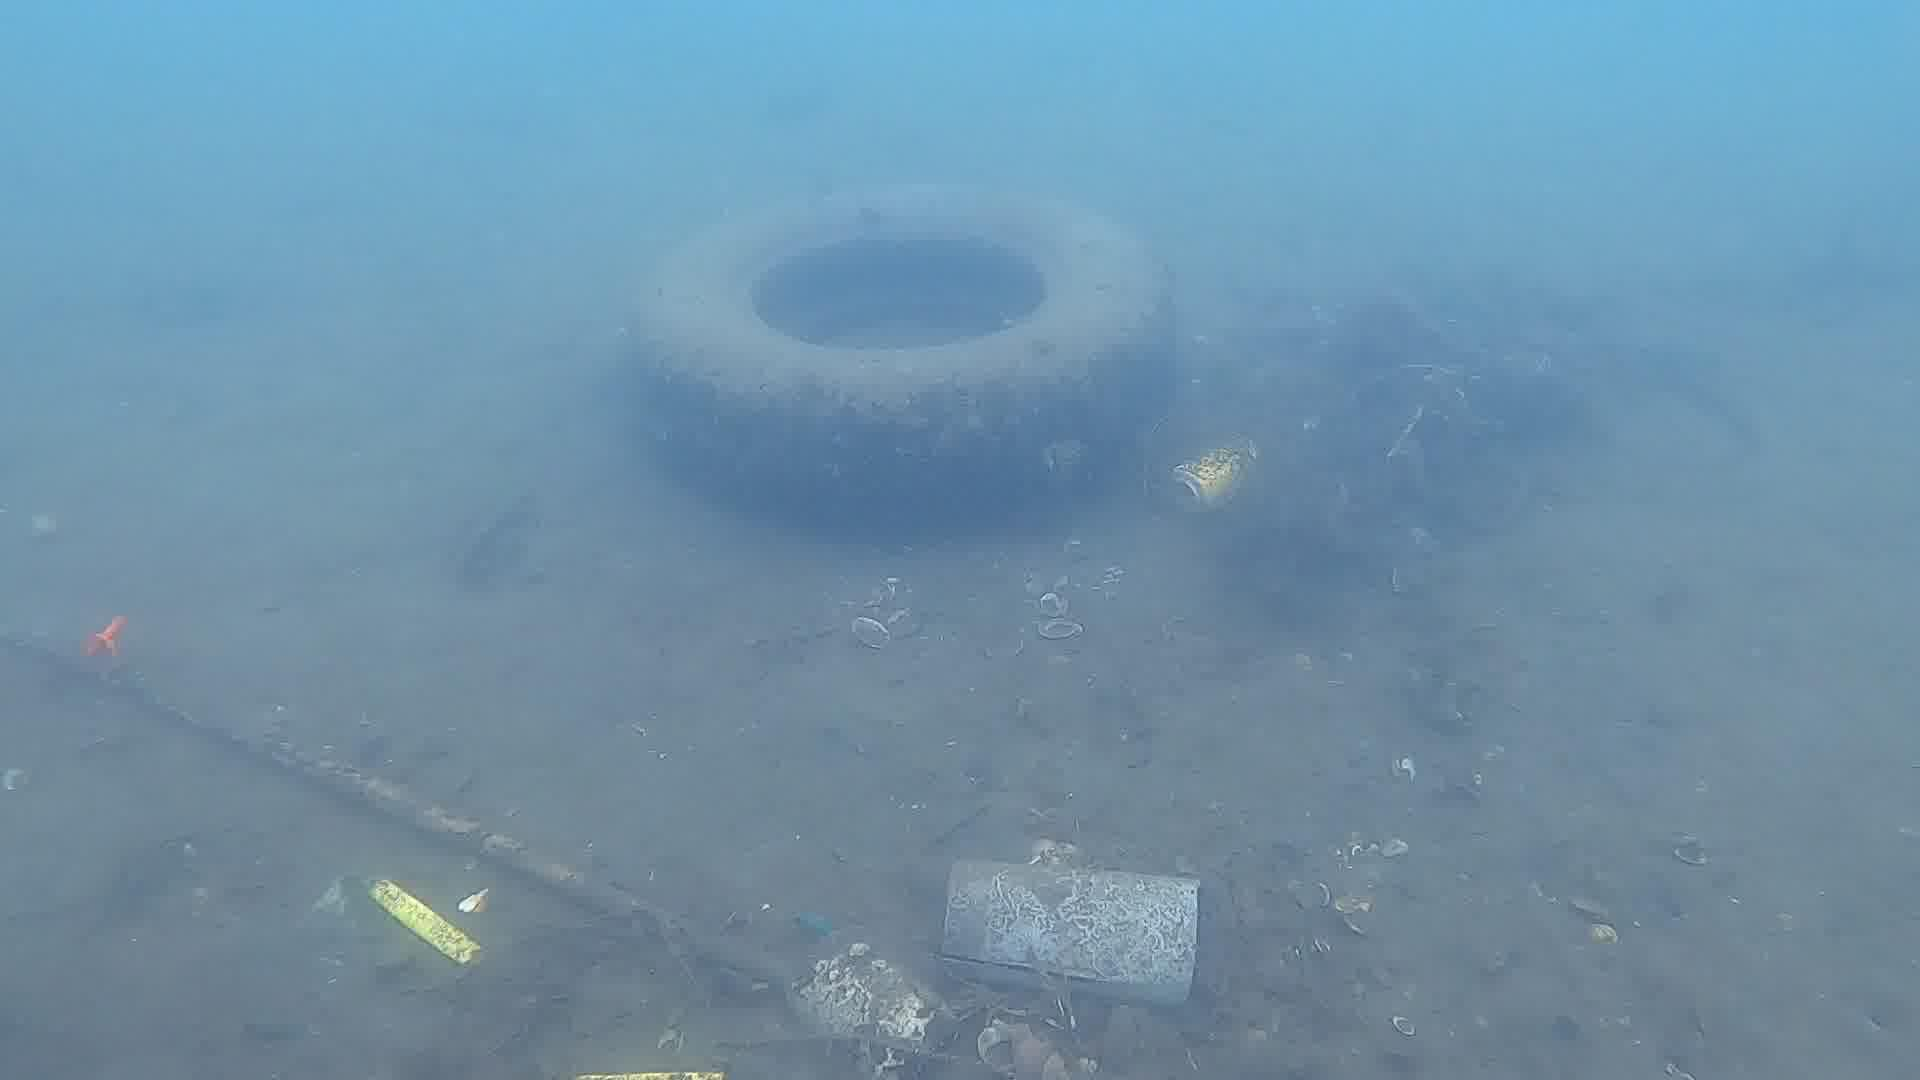tire: (637, 171, 1162, 520)
